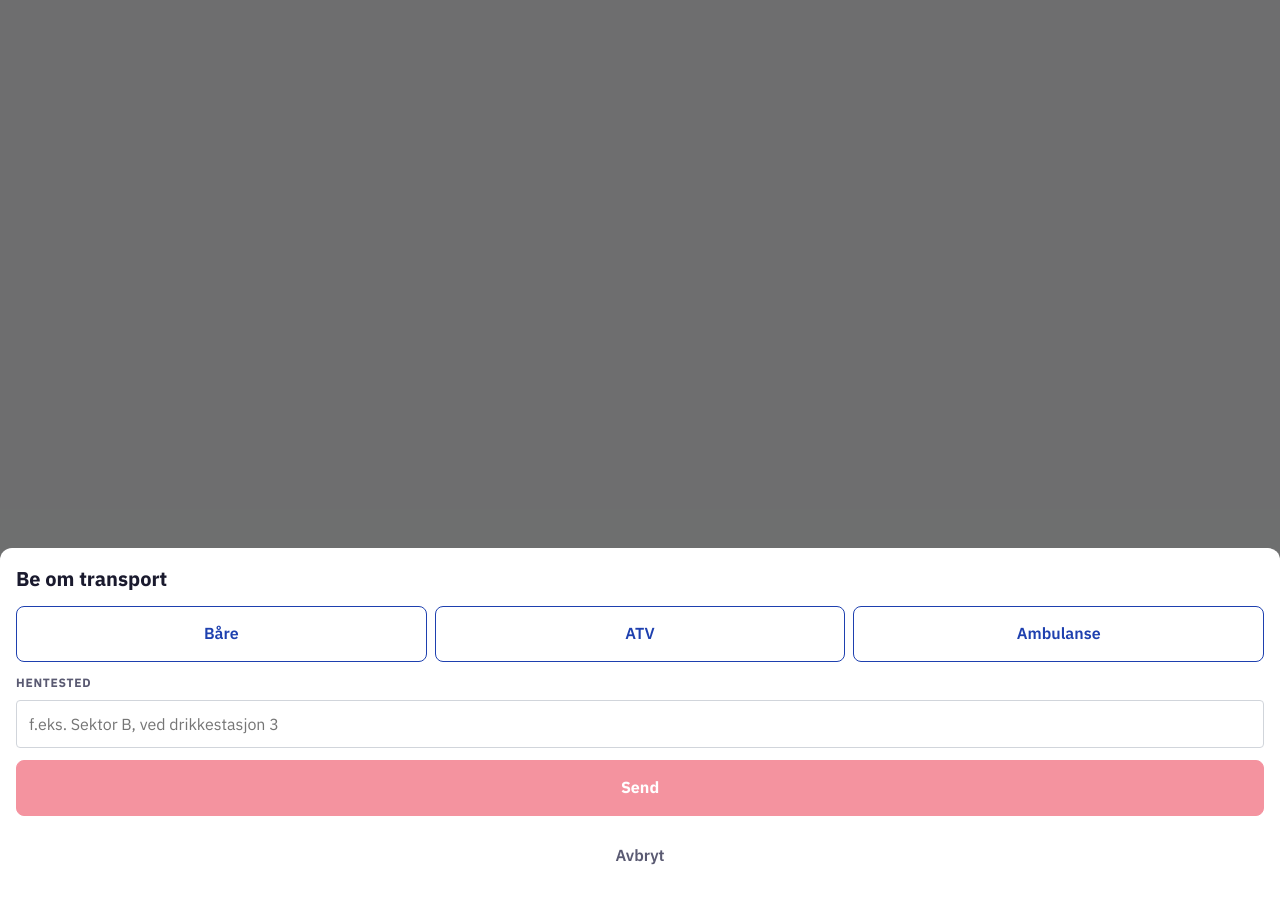
Test: TransportRequestSheet (gap B3 / item 8.26) › disables Send until a need chip is picked
The width and height of the screenshot is (1280, 900).
expect the button with test id "firstaid-transport-sheet-send" is disabled: met, box top-left (16, 760), bottom-right (1264, 816)
Click the radio button with test id "firstaid-transport-need-atv". click: (640, 634)
box: top-left (435, 606), bottom-right (845, 662)
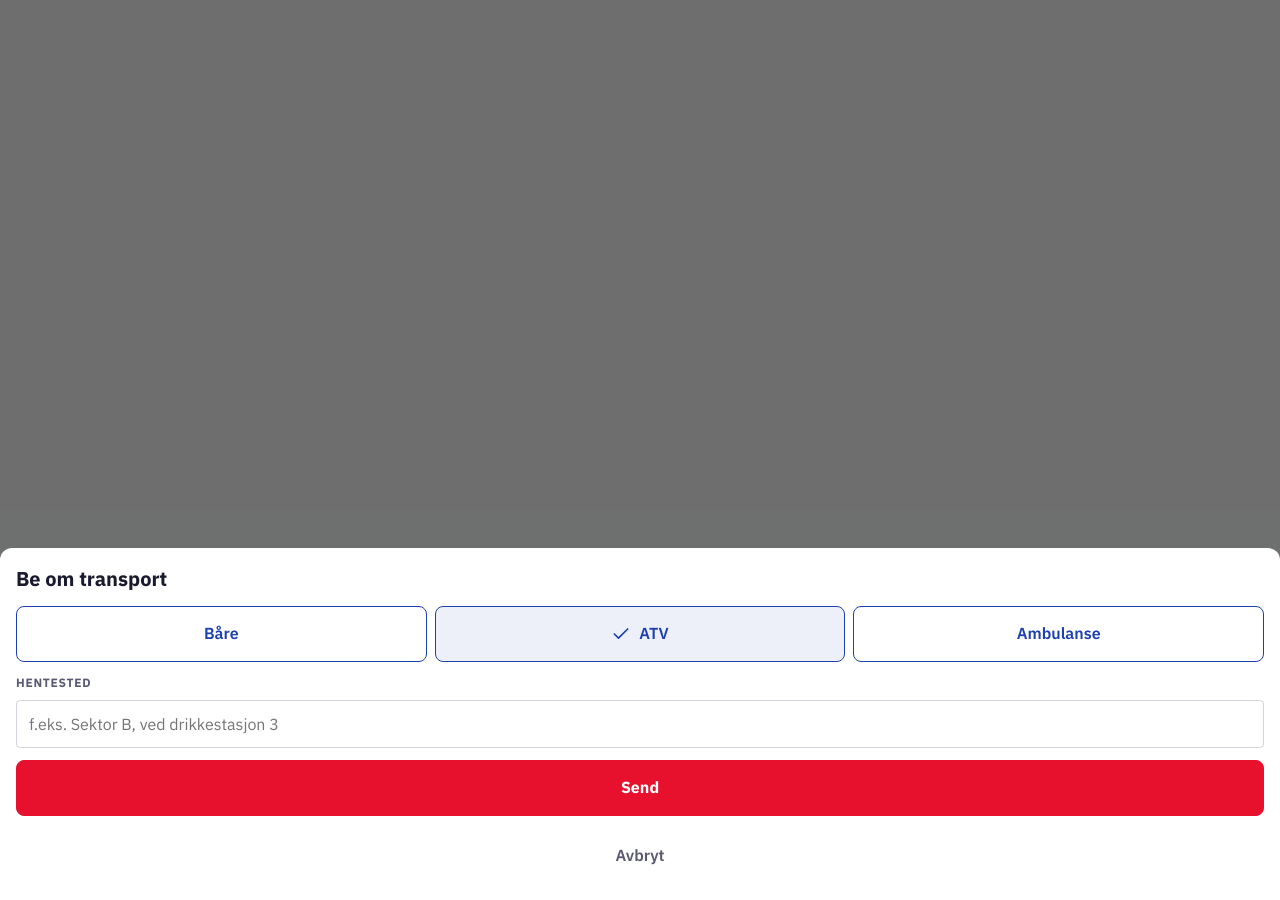
expect the button with test id "firstaid-transport-sheet-send" is enabled: met, box top-left (16, 760), bottom-right (1264, 816)
